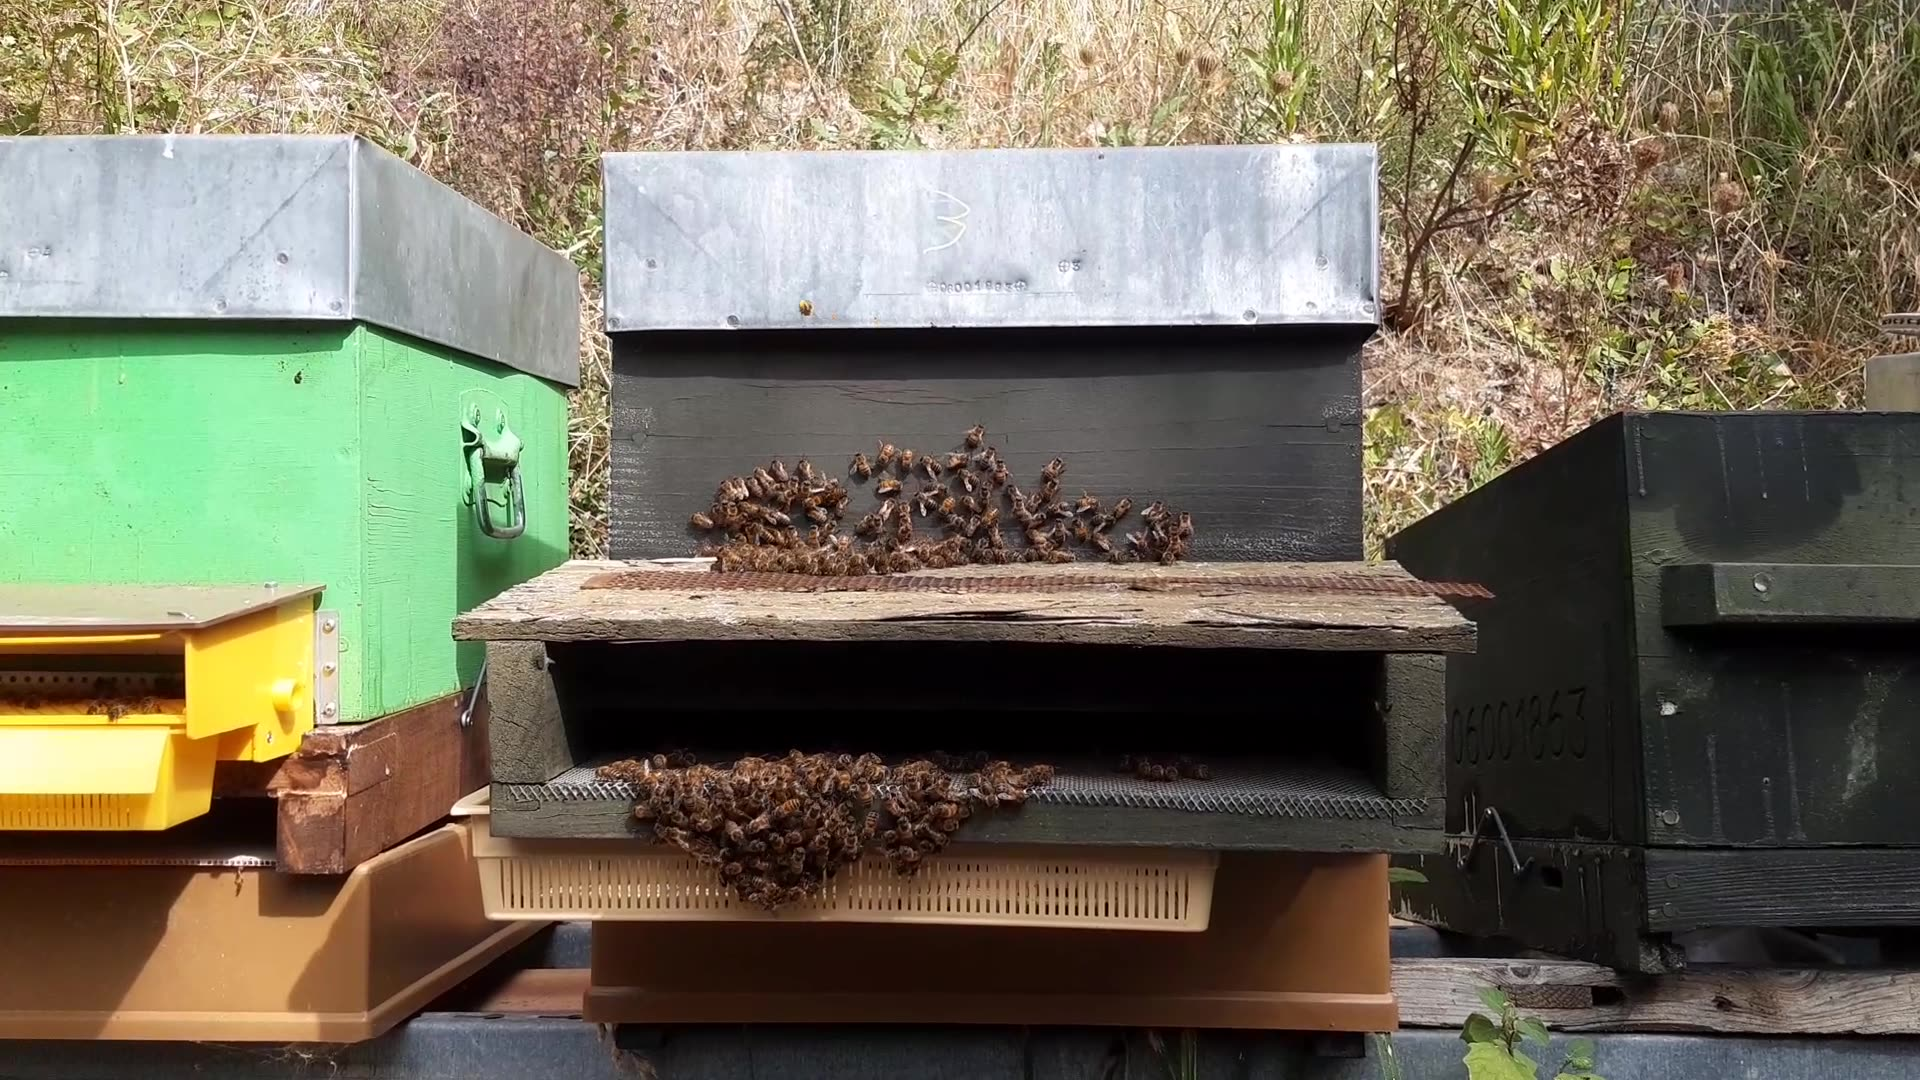bee: (729, 827, 814, 906), (1105, 500, 1193, 568), (893, 812, 980, 878), (615, 782, 694, 852), (934, 749, 1044, 793), (853, 524, 932, 582), (732, 468, 810, 522), (713, 513, 800, 560), (605, 757, 688, 803), (1044, 518, 1118, 568), (944, 458, 1011, 512), (858, 454, 932, 502), (725, 740, 823, 773), (1010, 477, 1060, 531), (947, 433, 1004, 477), (769, 291, 803, 344)
